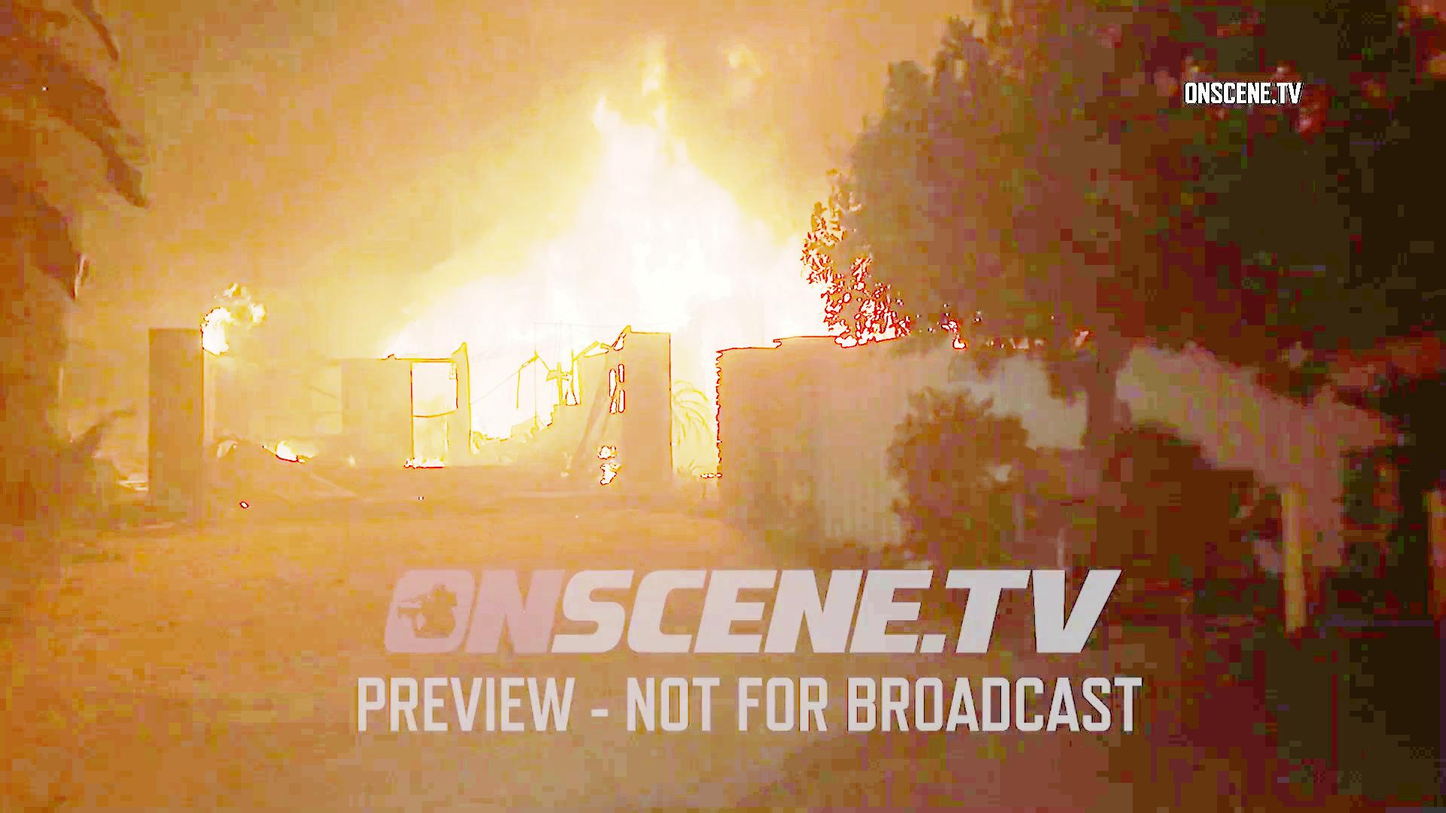fire: (571, 100, 734, 324)
